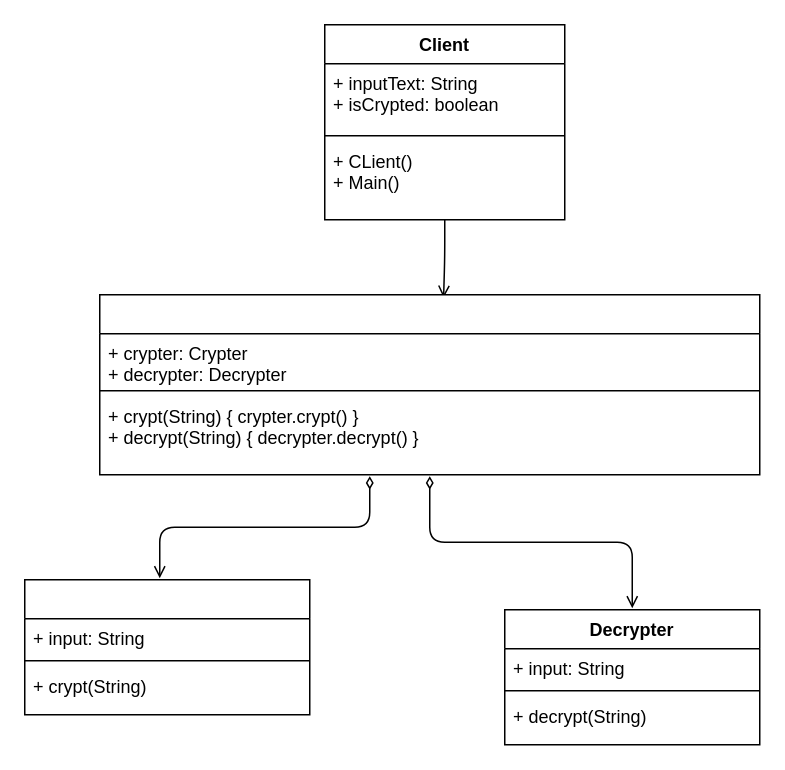
Image size: 785x770. Some labels were removed from this diagram. Here are the shapes that lost their labels. From the top down, the box of each, then its label:
(98, 293, 760, 475): Facade
(23, 578, 310, 715): Crypter
